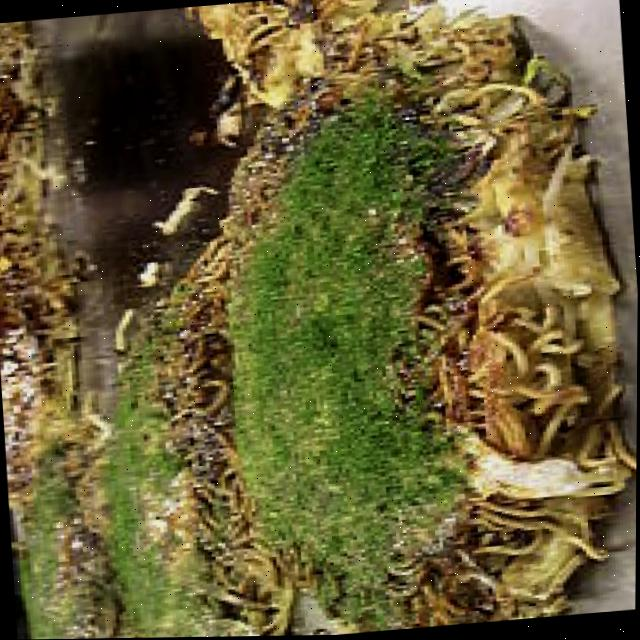蛋糕甜品: (200, 10, 629, 638)
